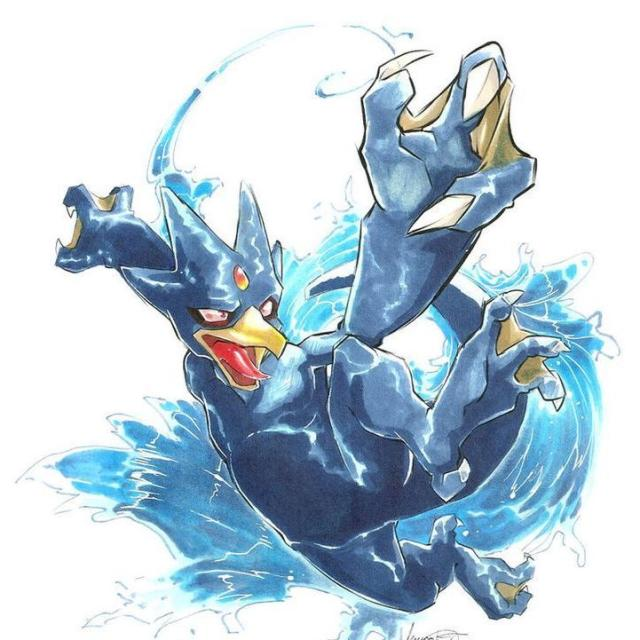Golduck: (58, 51, 547, 602)
